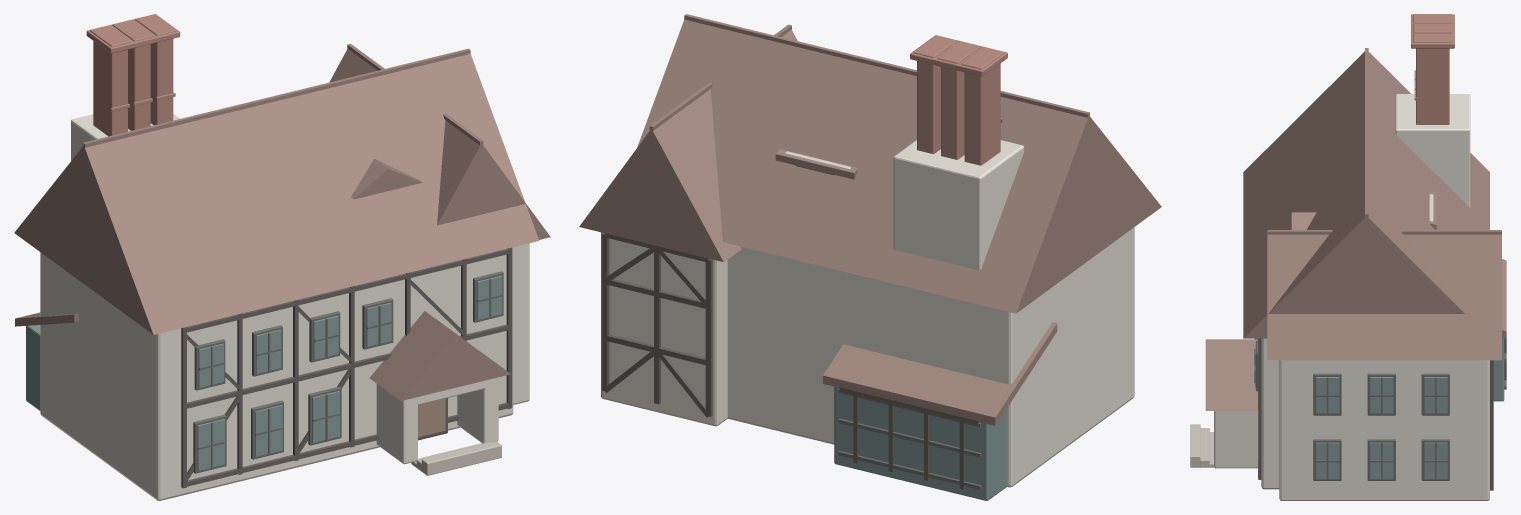
File: hudec-memorial-identity.glb
The picture shows the model from 3 angles, left to right: view 1: azimuth 30°, elevation 25°; view 2: azimuth 150°, elevation 25°; view 3: azimuth 270°, elevation 25°; orthographic projection. The views are drawn at different scales.
Visible parts, largest first — view 1: hudec-memorial-identity; view 2: hudec-memorial-identity; view 3: hudec-memorial-identity.
Part boxes in pixels (x1=…): hudec-memorial-identity: x1=14, y1=14, x2=550, y2=500; hudec-memorial-identity: x1=579, y1=14, x2=1161, y2=500; hudec-memorial-identity: x1=1190, y1=14, x2=1506, y2=500.
Size of the model in its own units: 10.04 by 8.98 by 7.58.
